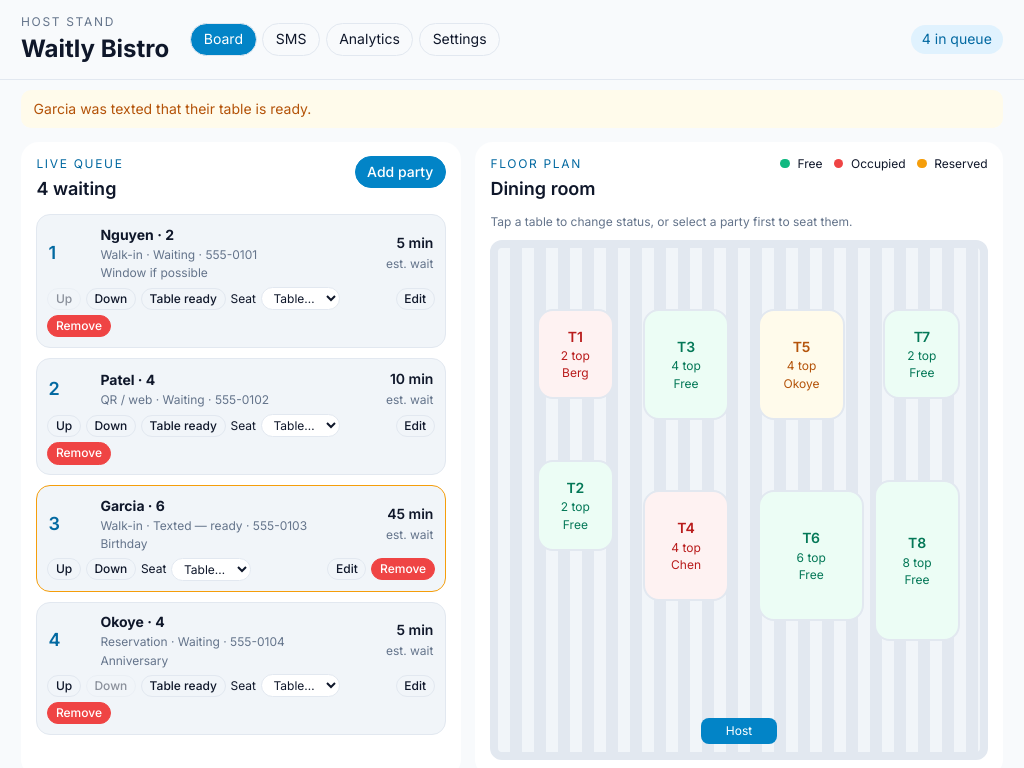
Test: Waitly host UI › seats the first party onto a free table
Expected: the text "Nguyen · 2" is shown, [100,226,174,243]
Step 1. Select "T2 (2)" in the dropdown named "Seat Nguyen" → [300, 299], box [261,287,340,310]
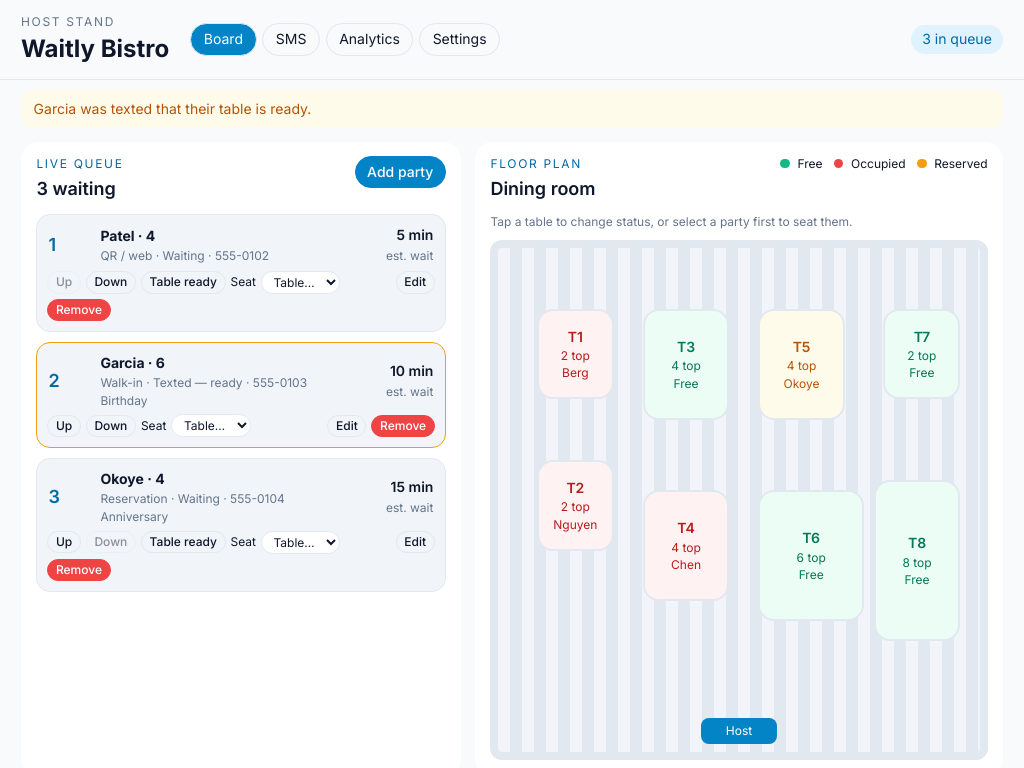
Now the button "Nguyen · 2" is gone
Now the button with aria-label "T2, 2 seats, occupied, Nguyen" is shown, box [537,460,614,551]
